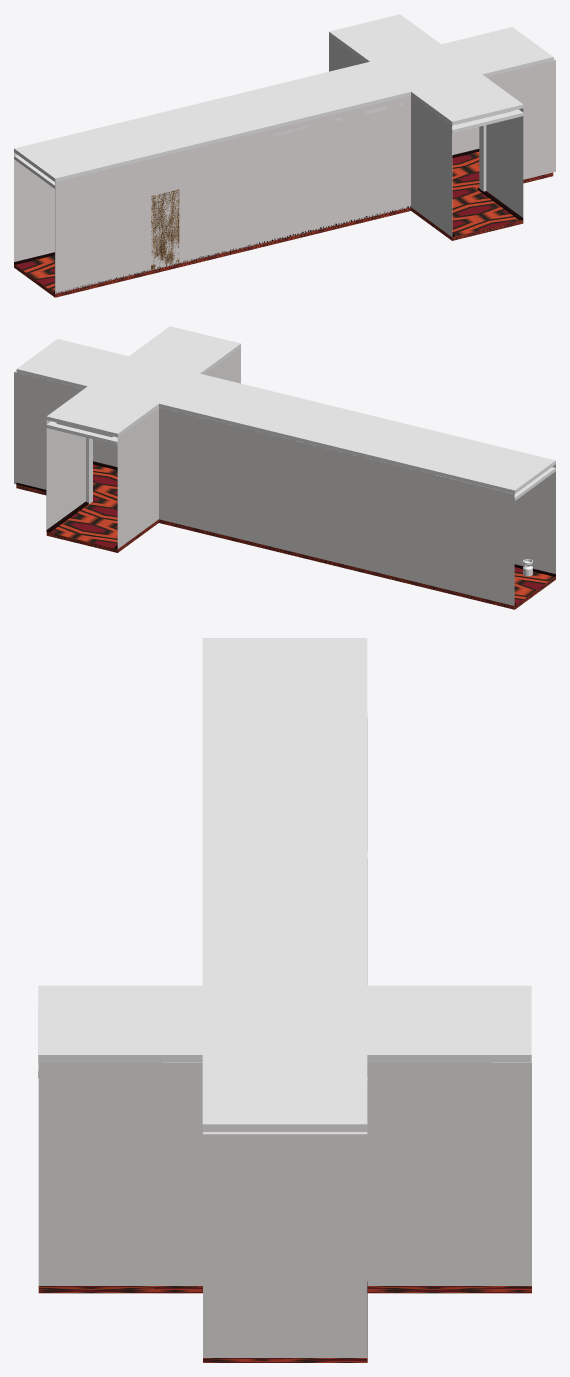
File: version 3.fbx
3 renders of one model, top to bottom at view 1: azimuth 30°, elevation 25°; view 2: azimuth 150°, elevation 25°; view 3: azimuth 270°, elevation 25°, orthographic. The views are drawn at different scales.
Parts seen in each view (by area): view 1: 物件_41, 物件_13, 物件_40, 物件_69, 物件_33, 物件_8, 物件_39, 物件_53, 物件_68, 物件_34, 物件_14, 物件_31 (+1 smaller); view 2: 物件_8, 物件_13, 物件_40, 物件_68, 物件_34, 物件_41, 物件_37, 物件_69, 物件_33, 物件_24, 物件_17; view 3: 物件_13, 物件_11, 物件_37, 物件_39, 物件_40.
Part boxes in pixels (<box>): 物件_41: <box>55,95,410,293</box>; 物件_13: <box>14,14,553,182</box>; 物件_40: <box>14,151,553,297</box>; 物件_69: <box>411,95,452,236</box>; 物件_33: <box>486,61,553,179</box>; 物件_8: <box>14,152,54,261</box>; 物件_39: <box>486,108,523,217</box>; 物件_53: <box>151,189,179,270</box>; 物件_68: <box>329,35,365,71</box>; 物件_34: <box>452,127,479,154</box>; 物件_14: <box>452,109,523,133</box>; 物件_31: <box>479,125,486,191</box>; 物件_8: <box>159,407,514,605</box>; 物件_13: <box>16,326,555,494</box>; 物件_40: <box>16,464,555,609</box>; 物件_68: <box>117,407,158,548</box>; 物件_34: <box>16,373,83,489</box>; 物件_41: <box>514,464,555,573</box>; 物件_37: <box>46,420,85,531</box>; 物件_69: <box>204,347,240,383</box>; 物件_33: <box>93,439,117,466</box>; 物件_24: <box>86,437,92,503</box>; 物件_17: <box>53,424,111,442</box>; 物件_13: <box>38,638,531,1131</box>; 物件_11: <box>203,1132,367,1357</box>; 物件_37: <box>367,1062,531,1285</box>; 物件_39: <box>38,1062,202,1285</box>; 物件_40: <box>38,1286,531,1362</box>.
Size of the model in its own units: 1407 by 320 by 601.
Materials: 5 (2 with a texture image).
